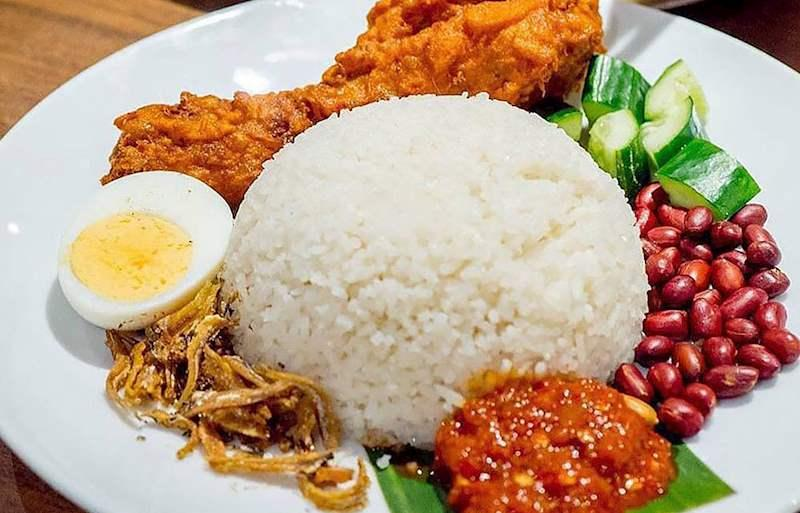Anchovies: (107, 280, 368, 513)
Boiled-Egg: (60, 172, 231, 329)
Cucumber: (546, 56, 761, 223)
Fried-Chicken: (107, 0, 605, 209)
Peanuts: (607, 180, 800, 444)
Rice: (222, 96, 648, 450)
Sambal: (434, 381, 678, 513)
